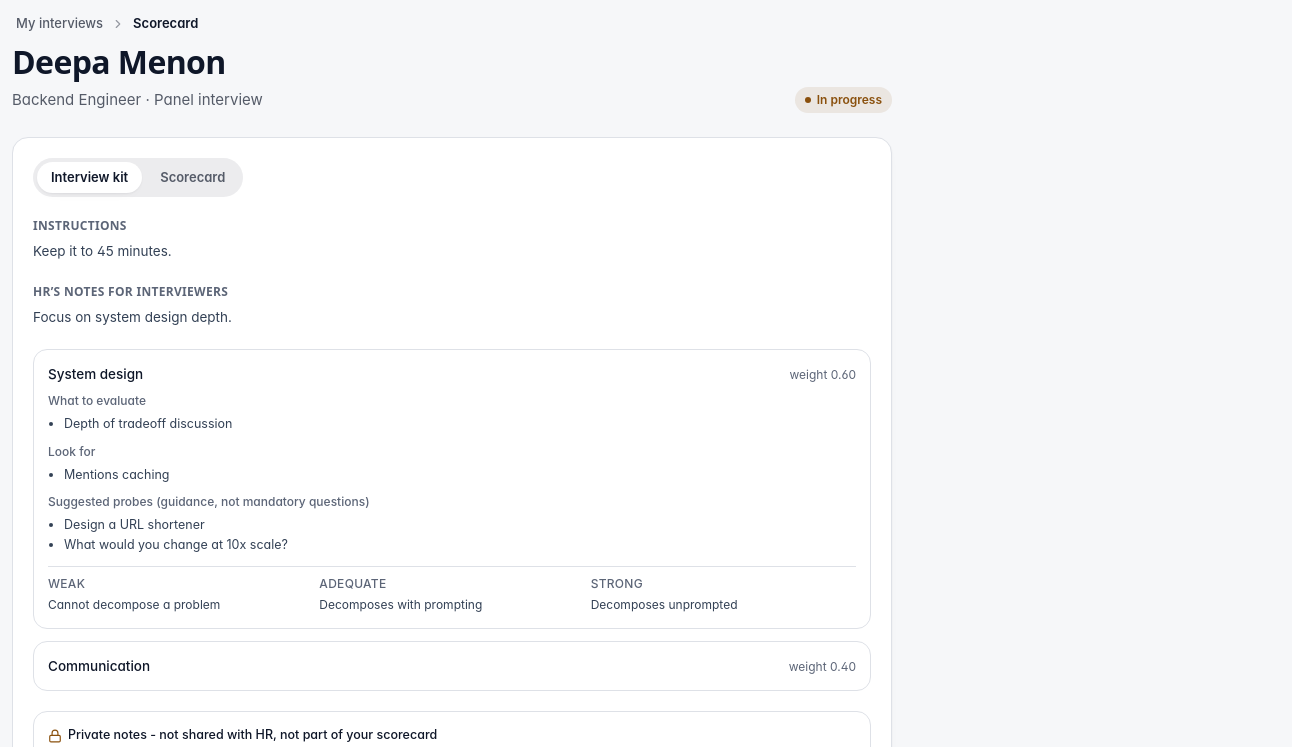
Test case: InterviewerScorecard - the scorecard tab › makes "not assessed" mutually exclusive with a score
Check: the heading "Deepa Menon" is shown, box [12, 44, 263, 80]
Click the tab "Scorecard": {"x": 193, "y": 177} [146, 162, 239, 193]
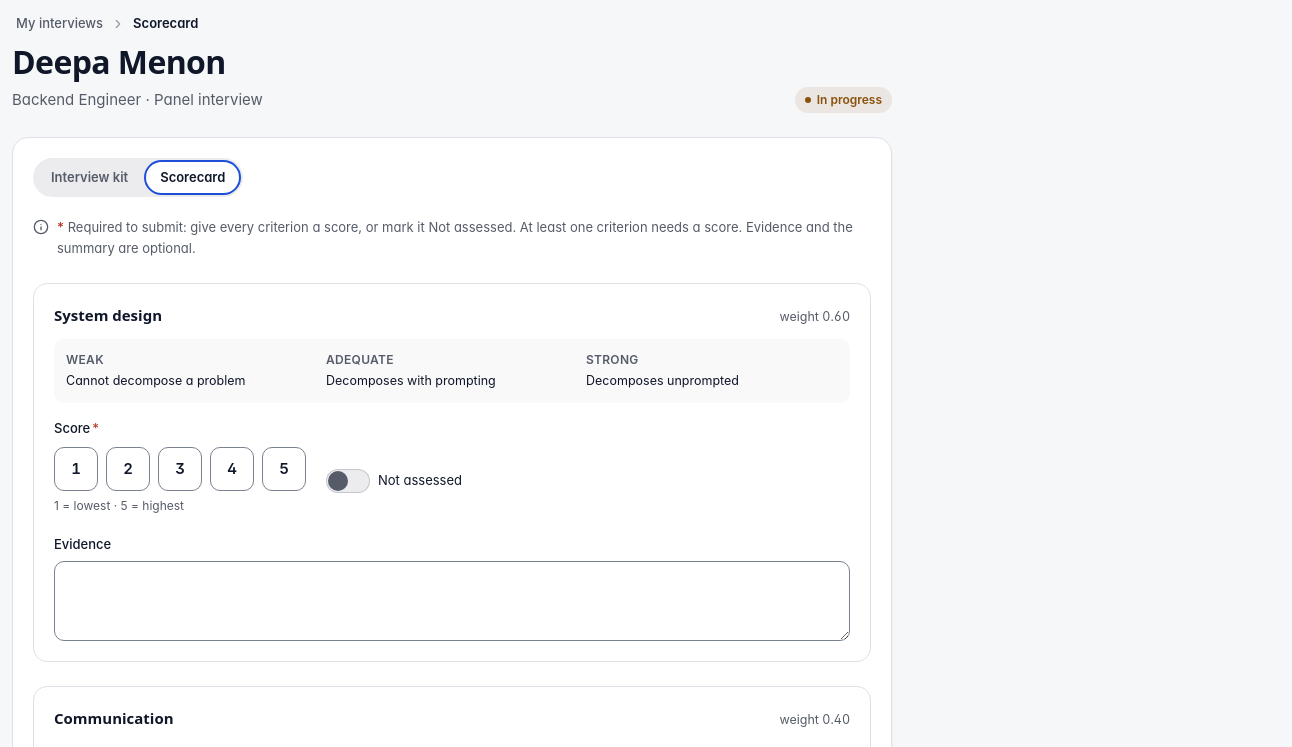
Click the radio button named "Score 3": {"x": 180, "y": 469} [158, 447, 202, 491]
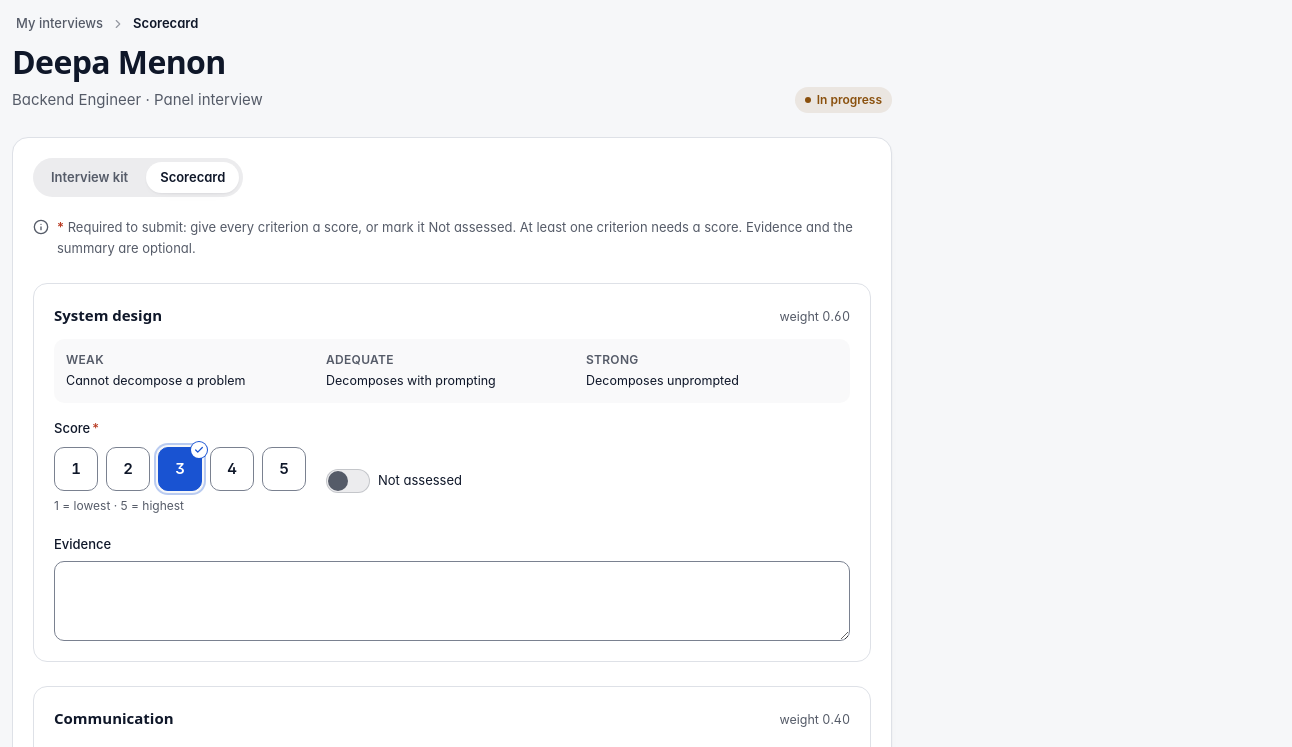
Check: the radio button named "Score 3" is checked, box [158, 447, 202, 491]
Click the switch named "Mark System design as not assessed": {"x": 348, "y": 481} [326, 469, 370, 493]
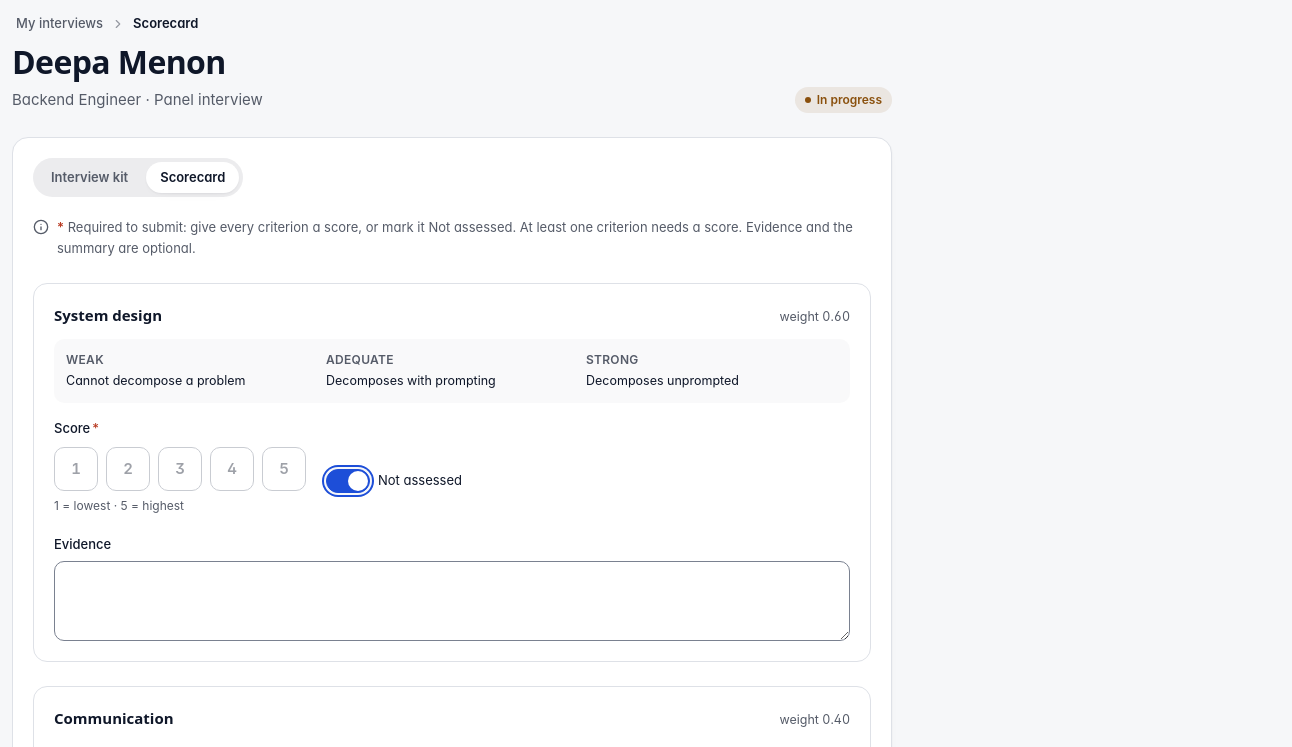
Check: the radio button named "Score 3" is disabled, box [158, 447, 202, 491]
